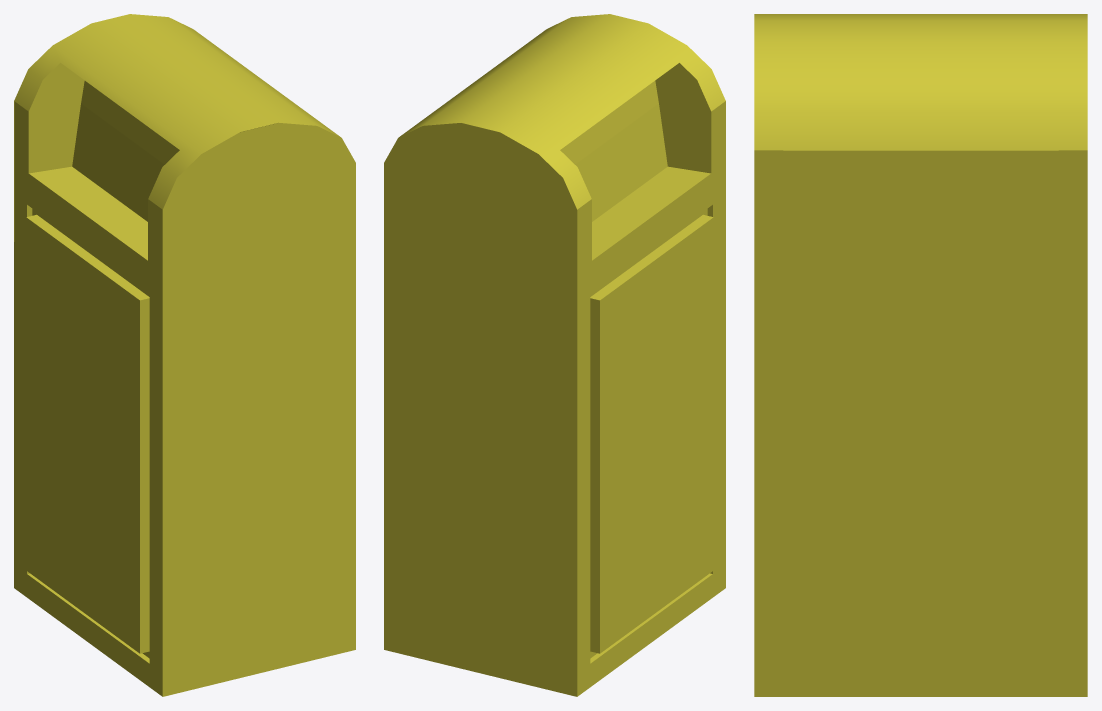
File: PostBox_Yellow_Large.FBX
3 renders of one model, left to right at view 1: azimuth 30°, elevation 25°; view 2: azimuth 150°, elevation 25°; view 3: azimuth 270°, elevation 25°, orthographic. The views are drawn at different scales.
Parts seen in each view (by area): view 1: PostBox_Yellow_Large; view 2: PostBox_Yellow_Large; view 3: PostBox_Yellow_Large.
Boxes of the visible parts, <box> form: PostBox_Yellow_Large: <box>14,14,355,696</box>; PostBox_Yellow_Large: <box>384,14,725,696</box>; PostBox_Yellow_Large: <box>754,14,1087,696</box>.
Bounding box in the file's own units: 61.64 × 162 × 80.
